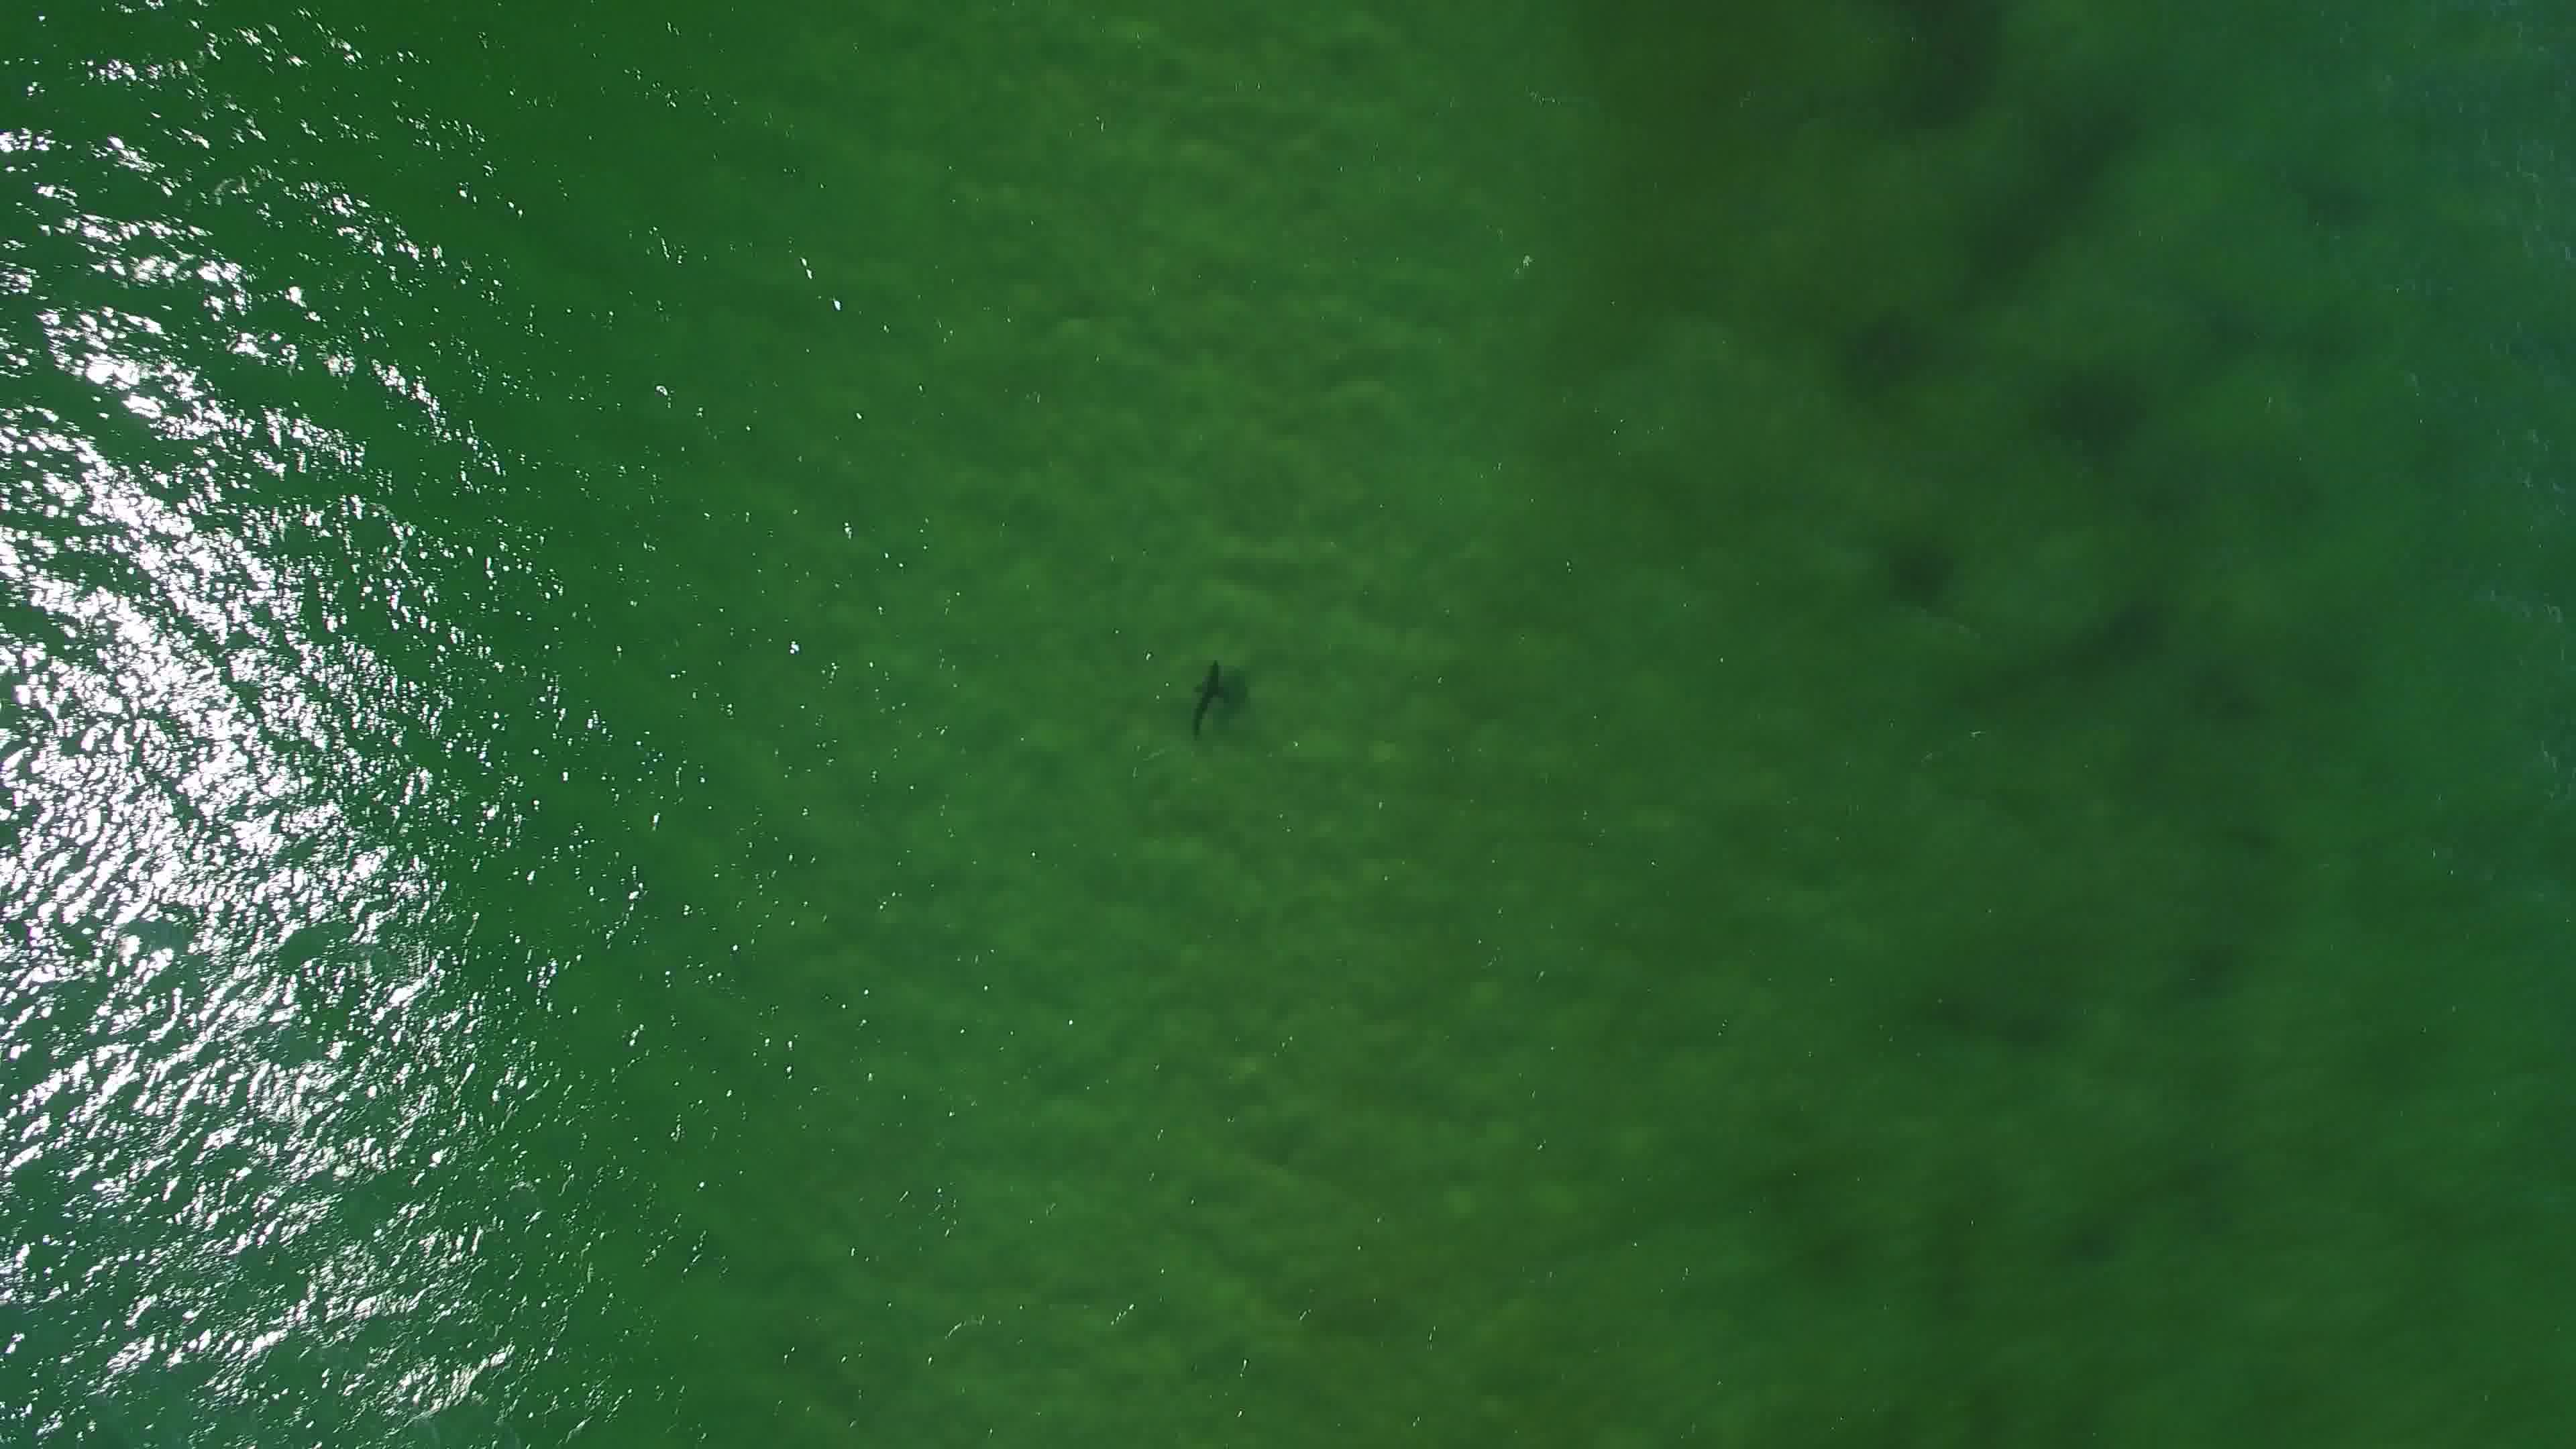shark: (1180, 658, 1238, 747)
